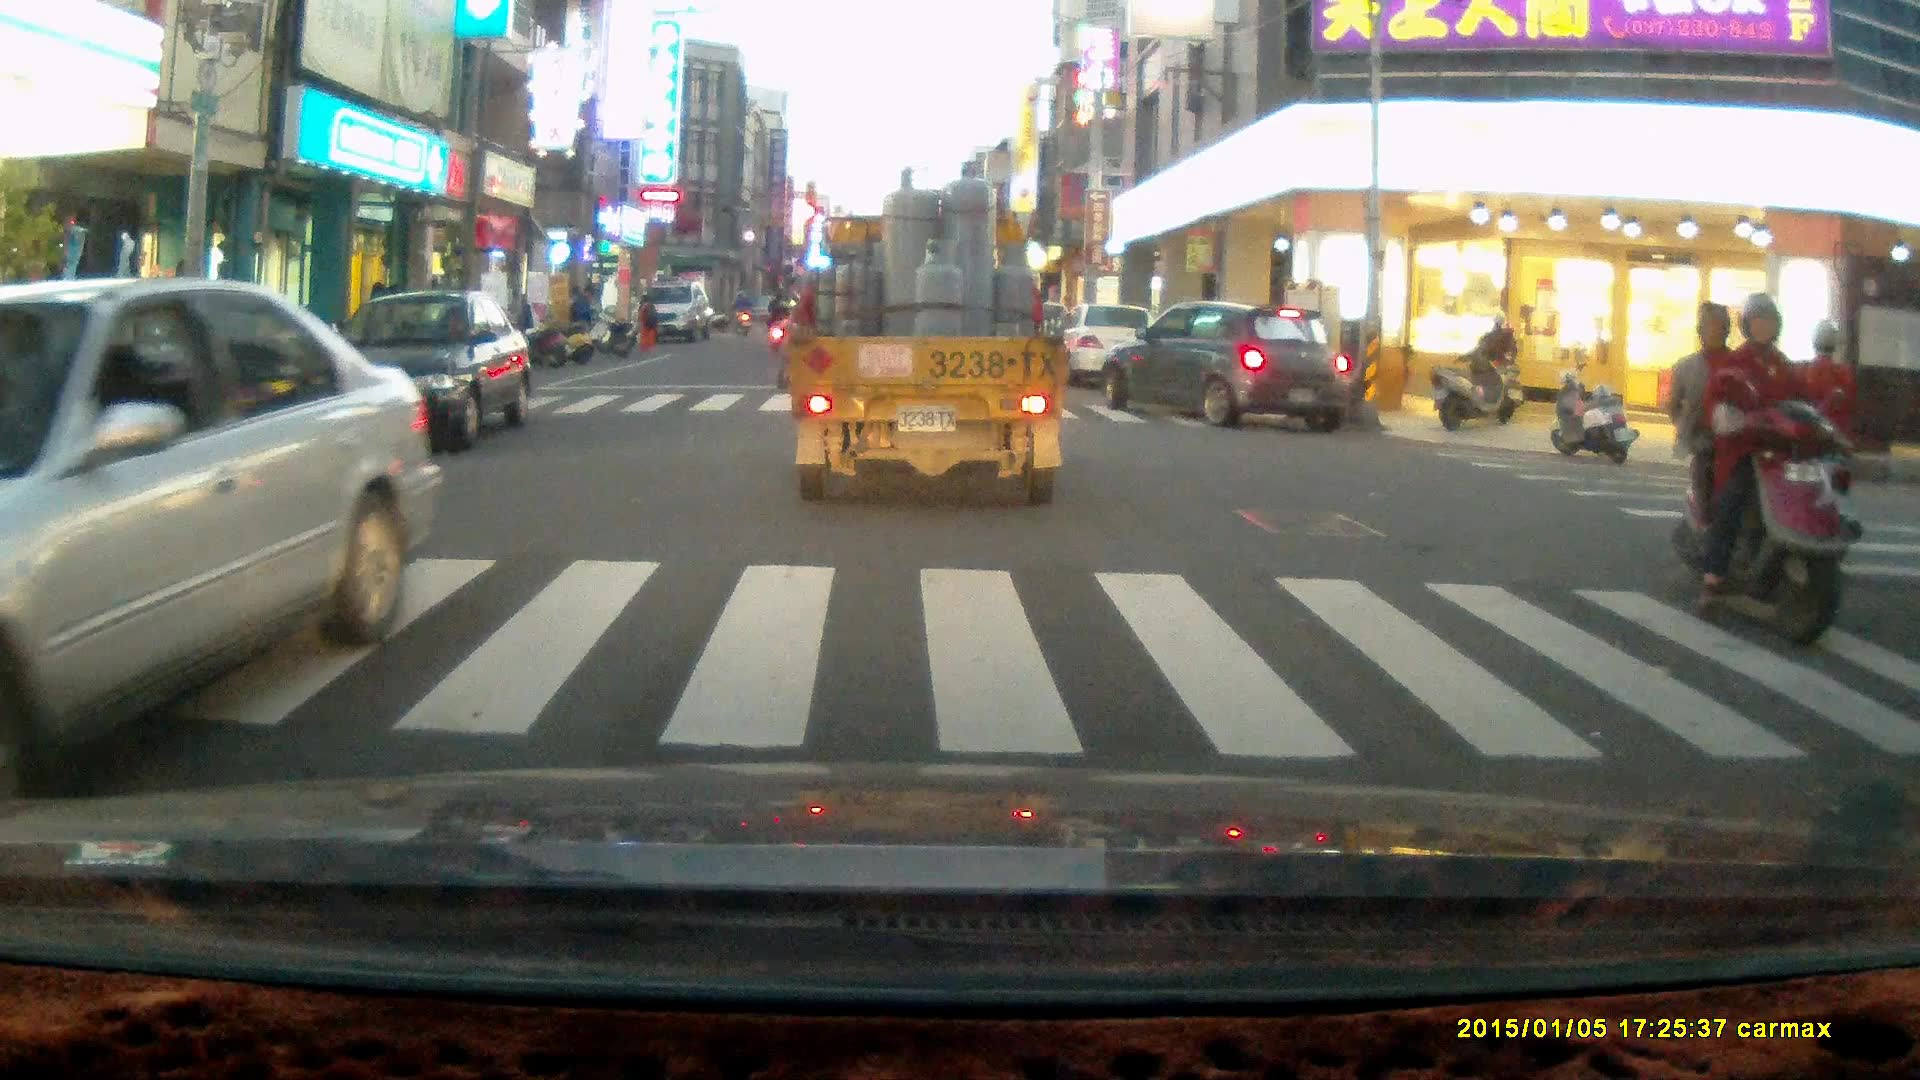pedestrian: (566, 284, 595, 350), (631, 294, 656, 354)
rider: (1661, 292, 1851, 653), (1464, 308, 1524, 426)
vehicle: (1, 277, 443, 792), (788, 158, 1076, 506), (1102, 303, 1350, 431), (1047, 306, 1171, 394), (631, 280, 707, 340)
